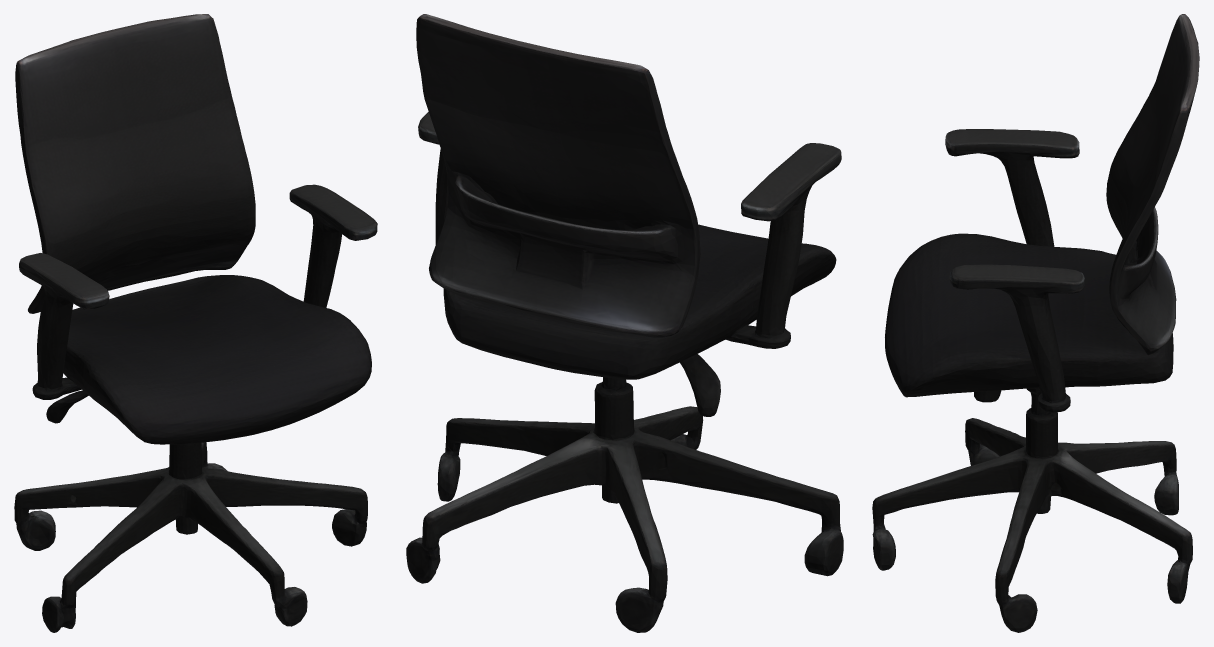
3 views of the same model, side by side, from view 1: azimuth 30°, elevation 25°; view 2: azimuth 150°, elevation 25°; view 3: azimuth 270°, elevation 25° (orthographic). The views are drawn at different scales.
Visible parts, largest first — view 1: world; view 2: world; view 3: world.
Boxes of the visible parts, bbox=[...] form: world: bbox=[14, 14, 377, 632]; world: bbox=[406, 14, 843, 632]; world: bbox=[872, 14, 1199, 632].
Bounding box in the file's own units: 0.6997 × 0.9998 × 0.5988.
1 material, 1 textured.
